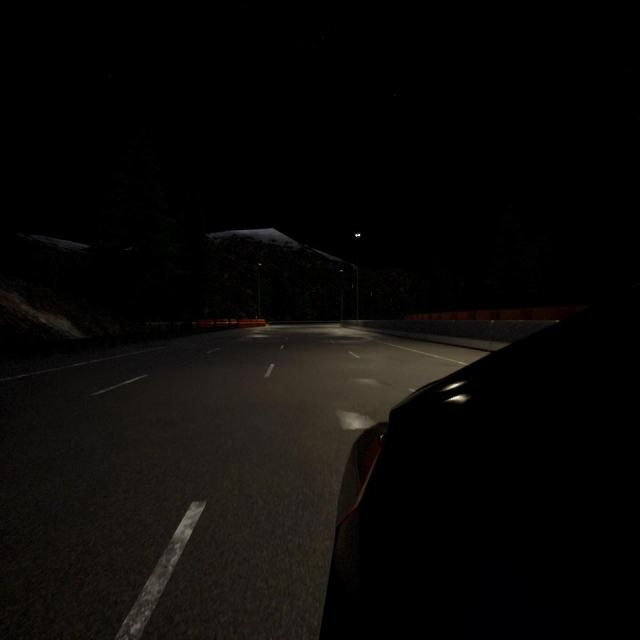Vehicle: (320, 286, 640, 638)
